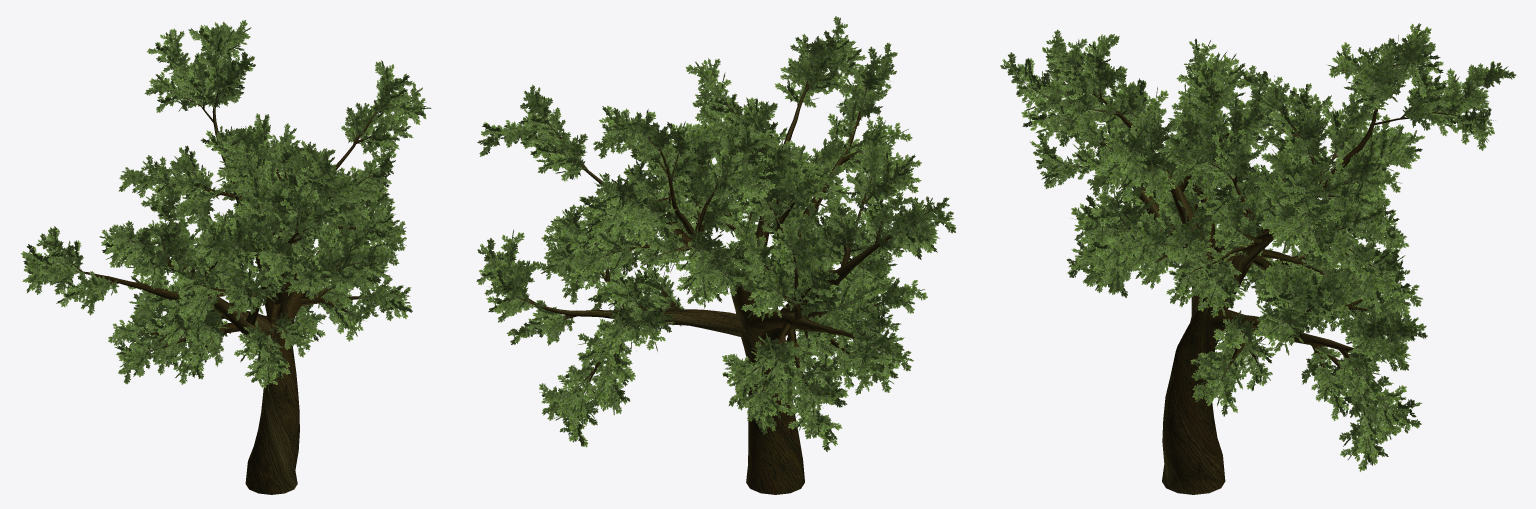
Rendered from prop_tree_oak_04.glb.
3 views of the same model, side by side, from view 1: azimuth 30°, elevation 25°; view 2: azimuth 150°, elevation 25°; view 3: azimuth 270°, elevation 25° (orthographic). The views are drawn at different scales.
Parts seen in each view (by area): view 1: Tree; view 2: Tree; view 3: Tree.
Part boxes in pixels (bbox=[...]): Tree: bbox=[21, 20, 431, 494]; Tree: bbox=[476, 16, 956, 494]; Tree: bbox=[1000, 23, 1516, 494].
Size of the model in its own units: 89.74 by 83.11 by 83.45.
Materials: 2 (2 with a texture image).
